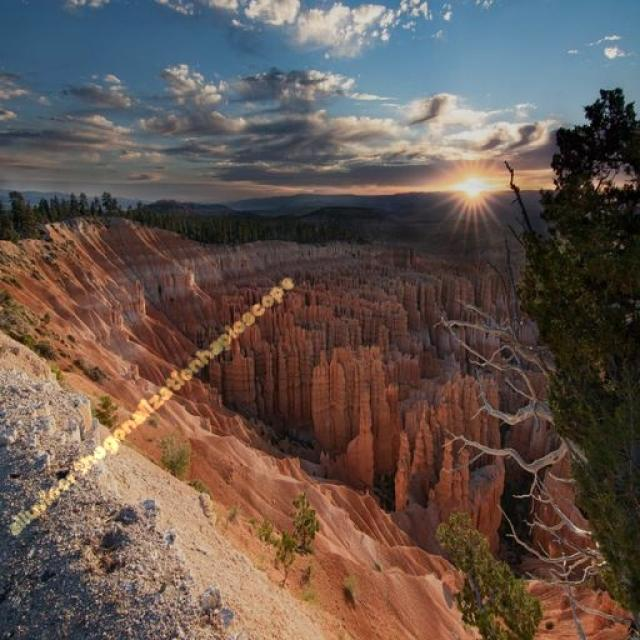watermark: (8, 266, 296, 539)
